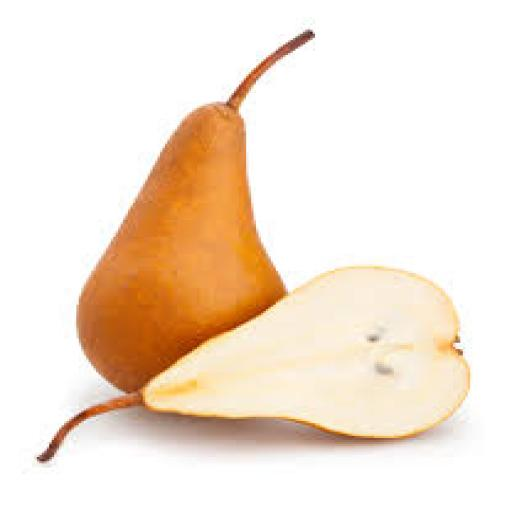Pear: (77, 32, 312, 391), (40, 267, 470, 461)
